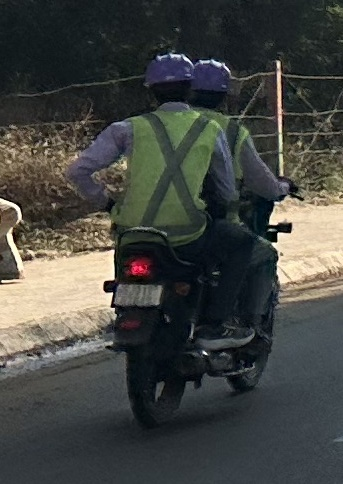BikeWithRider: (55, 48, 311, 435)
Helmet: (136, 49, 199, 112), (182, 55, 238, 115)
